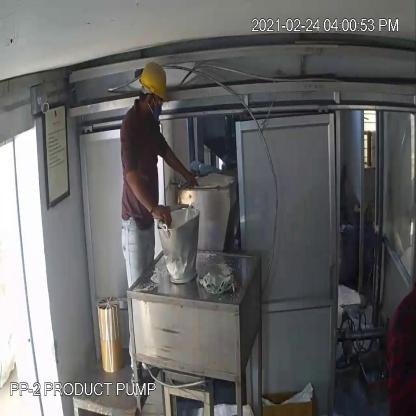helmet: (136, 54, 172, 107)
